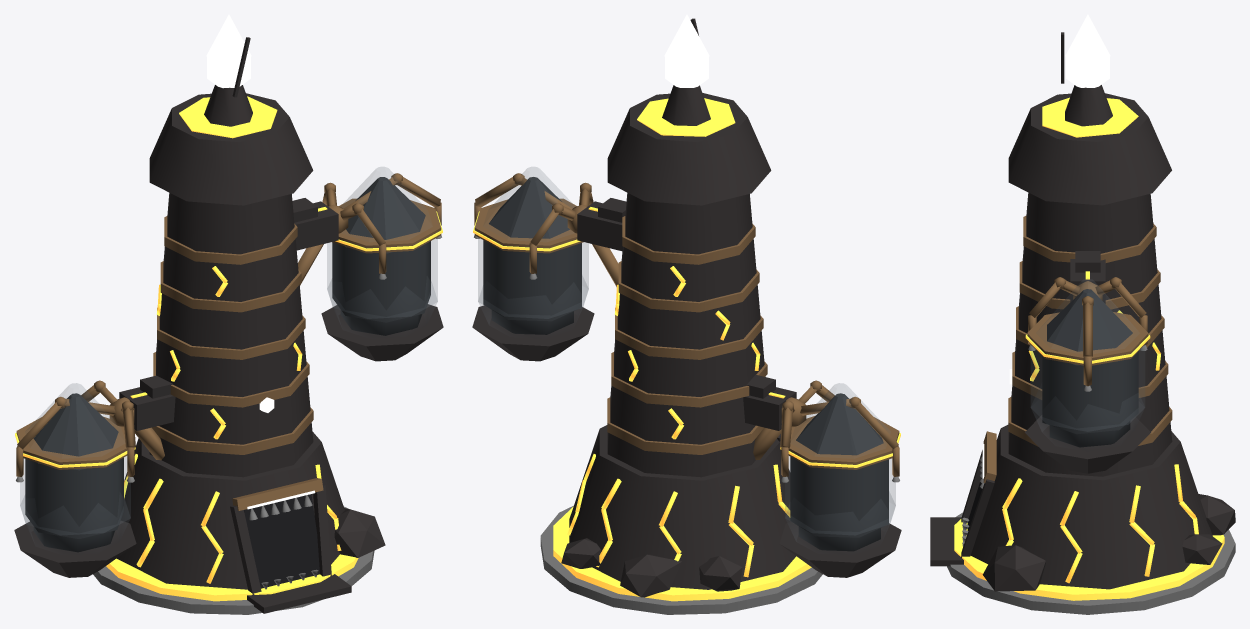
Rendered from EMBER_Vat_T2.glb.
3 renders of one model, left to right at view 1: azimuth 30°, elevation 25°; view 2: azimuth 150°, elevation 25°; view 3: azimuth 270°, elevation 25°, orthographic.
Parts seen in each view (by area): view 1: EMBER_Vat_T2; view 2: EMBER_Vat_T2; view 3: EMBER_Vat_T2.
Boxes of the visible parts, x1,y1,x2,y2 form: EMBER_Vat_T2: (14, 14, 443, 614); EMBER_Vat_T2: (472, 14, 901, 614); EMBER_Vat_T2: (930, 14, 1235, 614).
Bounding box in the file's own units: 5.82 × 7.05 × 3.62.
